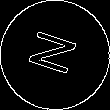N_E: (25, 28, 85, 82)
